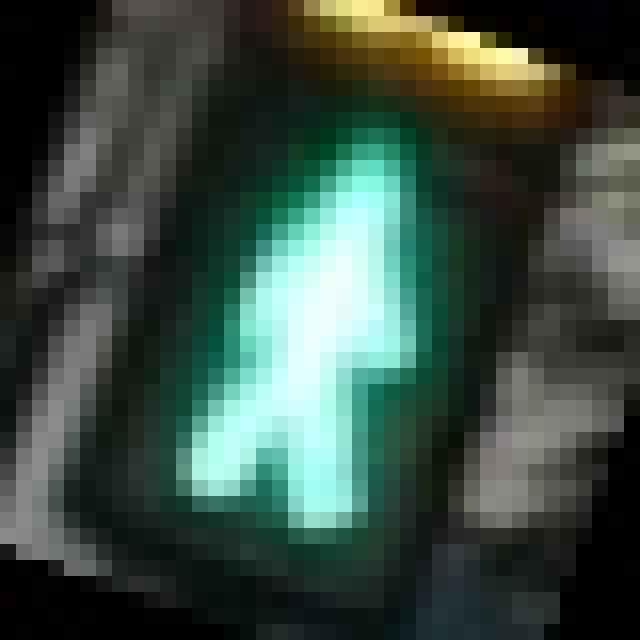geen-crossing: (112, 64, 464, 544)
